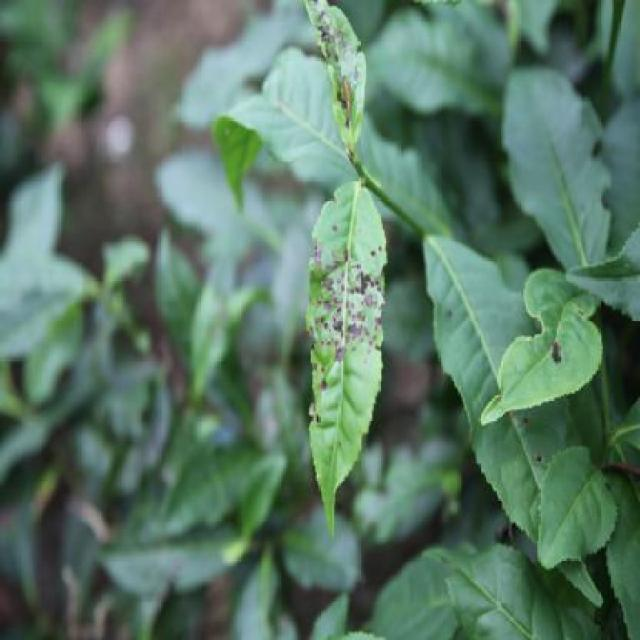Tea Mosquito bug infested leaf: (284, 179, 388, 526), (283, 0, 386, 143)
